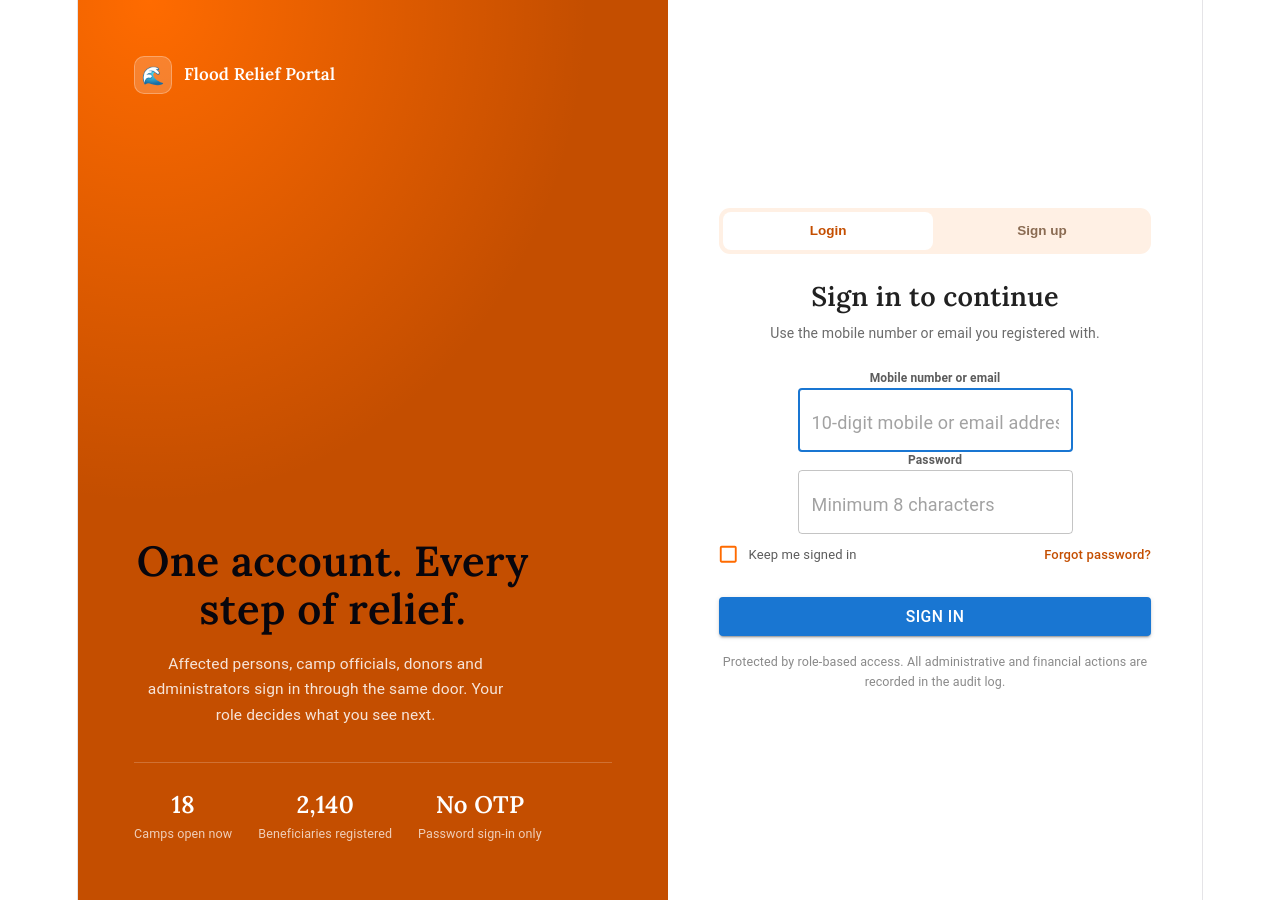
Test case: LoginPage › validates before sending anything to the server
Click the button "Sign in": x=935, y=616 [719, 597, 1151, 636]
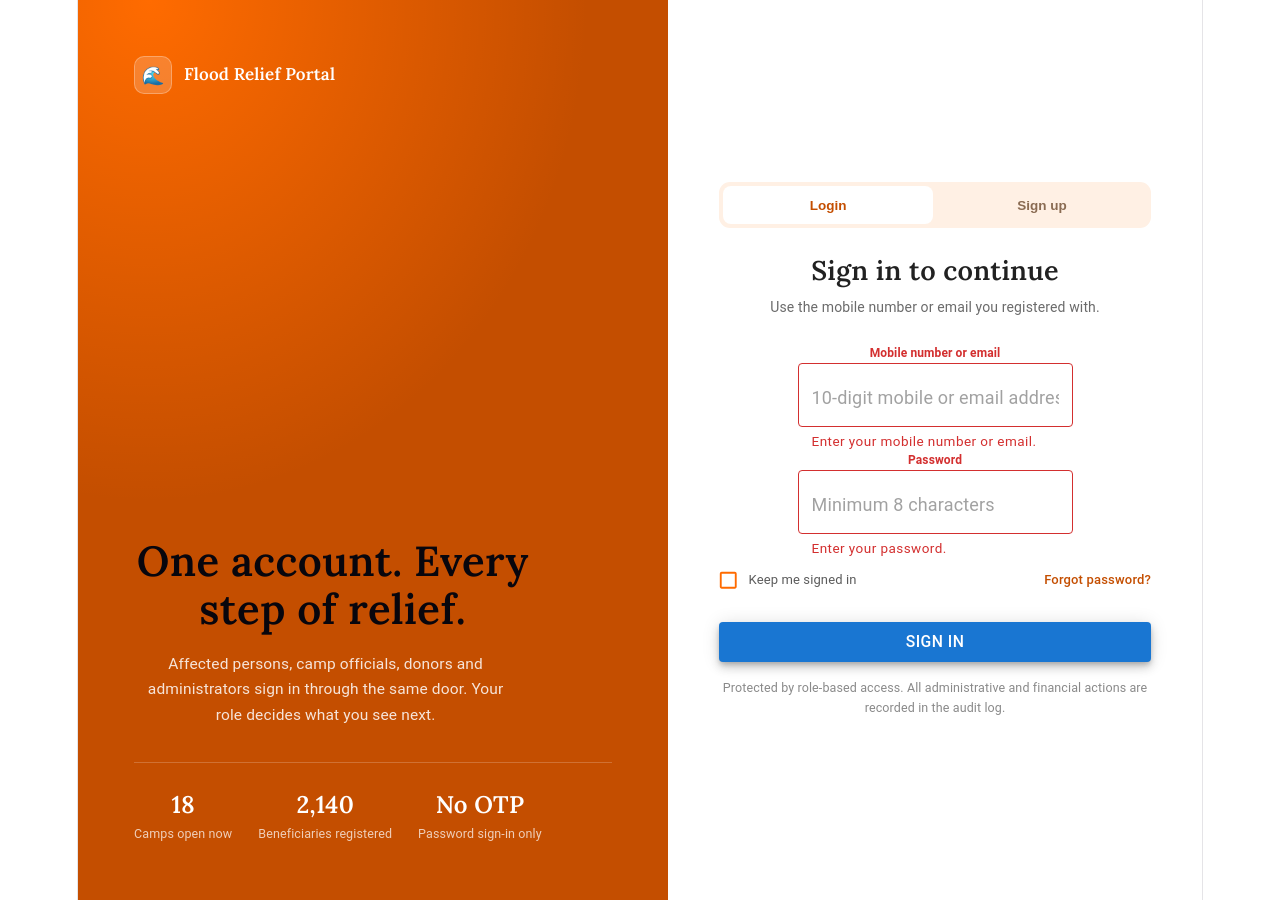
Expected: the text "Enter your mobile number or email." is shown, [812, 430, 1058, 452]
